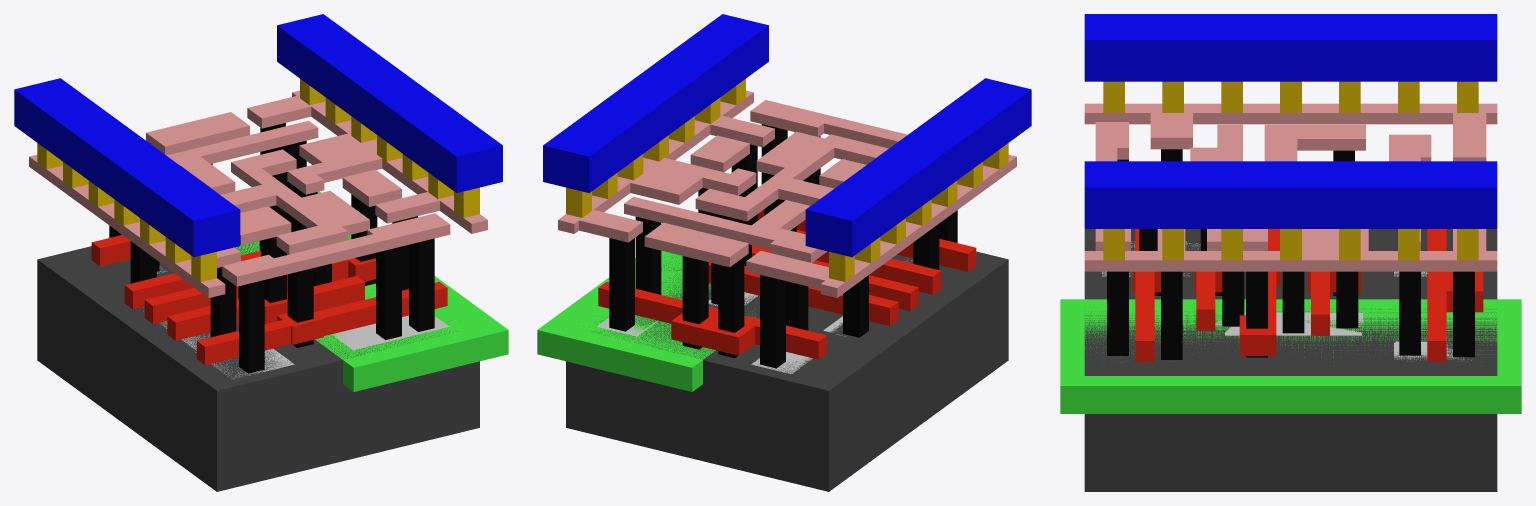
File: sky130_fd_sc_hd__and3b_1.obj
3 views of the same model, side by side, from view 1: azimuth 30°, elevation 25°; view 2: azimuth 150°, elevation 25°; view 3: azimuth 270°, elevation 25° (orthographic). The views are drawn at different scales.
Parts seen in each view (by area): view 1: subs, metal1, li, licon, poly, nwell, mcon, tap, diff; view 2: subs, metal1, li, licon, poly, nwell, mcon, diff; view 3: metal1, subs, nwell, li, licon, poly, mcon, tap.
Boxes of the visible parts, <box> form: subs: <box>37,236,479,491</box>; metal1: <box>14,14,502,257</box>; li: <box>29,90,487,297</box>; licon: <box>109,123,434,373</box>; poly: <box>91,193,447,364</box>; nwell: <box>235,191,508,391</box>; mcon: <box>37,79,479,281</box>; tap: <box>332,315,449,350</box>; diff: <box>143,266,294,378</box>; subs: <box>566,251,1008,491</box>; metal1: <box>543,14,1031,257</box>; li: <box>558,90,1016,297</box>; licon: <box>609,124,957,368</box>; poly: <box>598,209,976,359</box>; nwell: <box>537,250,755,391</box>; mcon: <box>566,79,1008,281</box>; diff: <box>751,257,912,373</box>; metal1: <box>1084,14,1497,228</box>; subs: <box>1084,229,1497,491</box>; nwell: <box>1060,299,1521,413</box>; li: <box>1084,103,1497,271</box>; licon: <box>1107,149,1474,359</box>; poly: <box>1132,229,1483,361</box>; mcon: <box>1103,81,1478,260</box>; tap: <box>1133,312,1471,361</box>.
Size of the model in its own units: 3.2 by 2.74 by 3.6.
